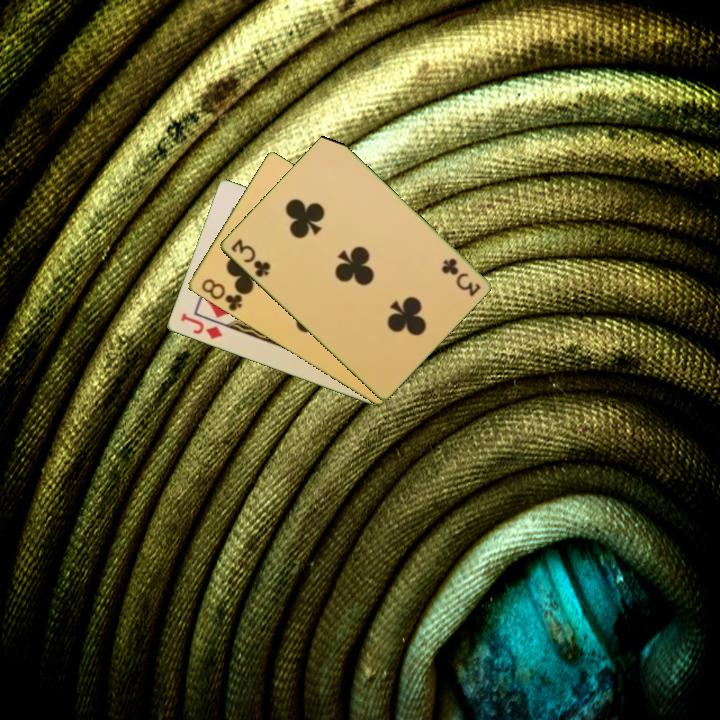3c: (227, 235, 273, 280), (438, 254, 483, 299)
8c: (197, 275, 245, 314)
Jd: (177, 310, 225, 342)
